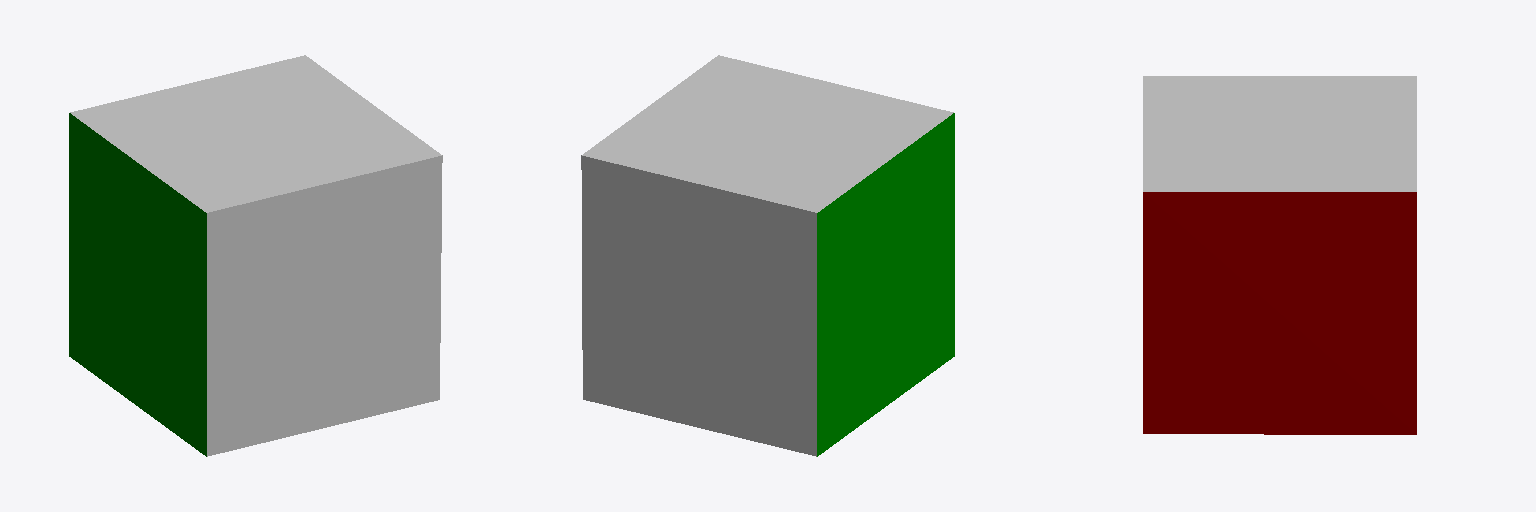
The model's file is cornell.obj.
3 renders of one model, left to right at view 1: azimuth 30°, elevation 25°; view 2: azimuth 150°, elevation 25°; view 3: azimuth 270°, elevation 25°, orthographic.
Visible parts, largest first — view 1: walls; view 2: walls; view 3: walls.
Part boxes in pixels (x1,y1,x2,y2): walls: (69,55,442,456); walls: (581,55,954,456); walls: (1143,76,1416,434).
Bounding box in the file's own units: 556 × 549 × 559.